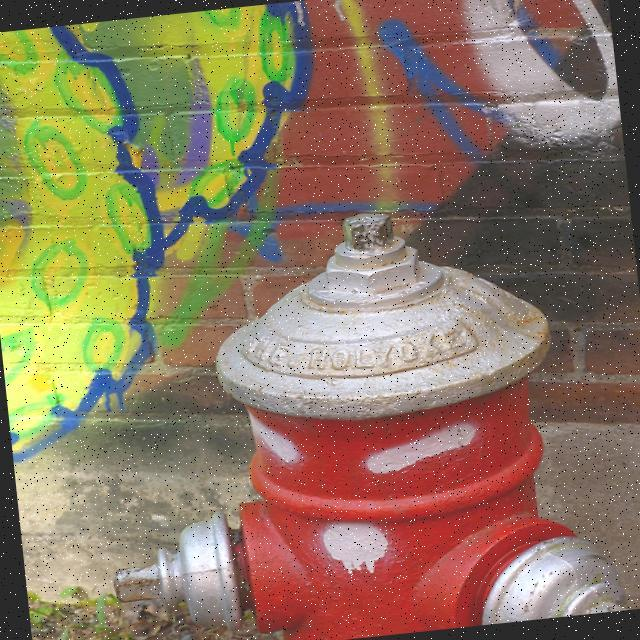fire_hydrant: (76, 188, 618, 640)
